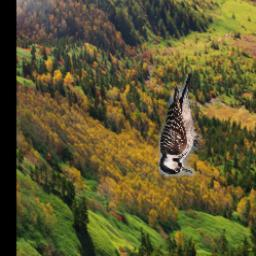Woodpecker: (158, 69, 202, 176)
